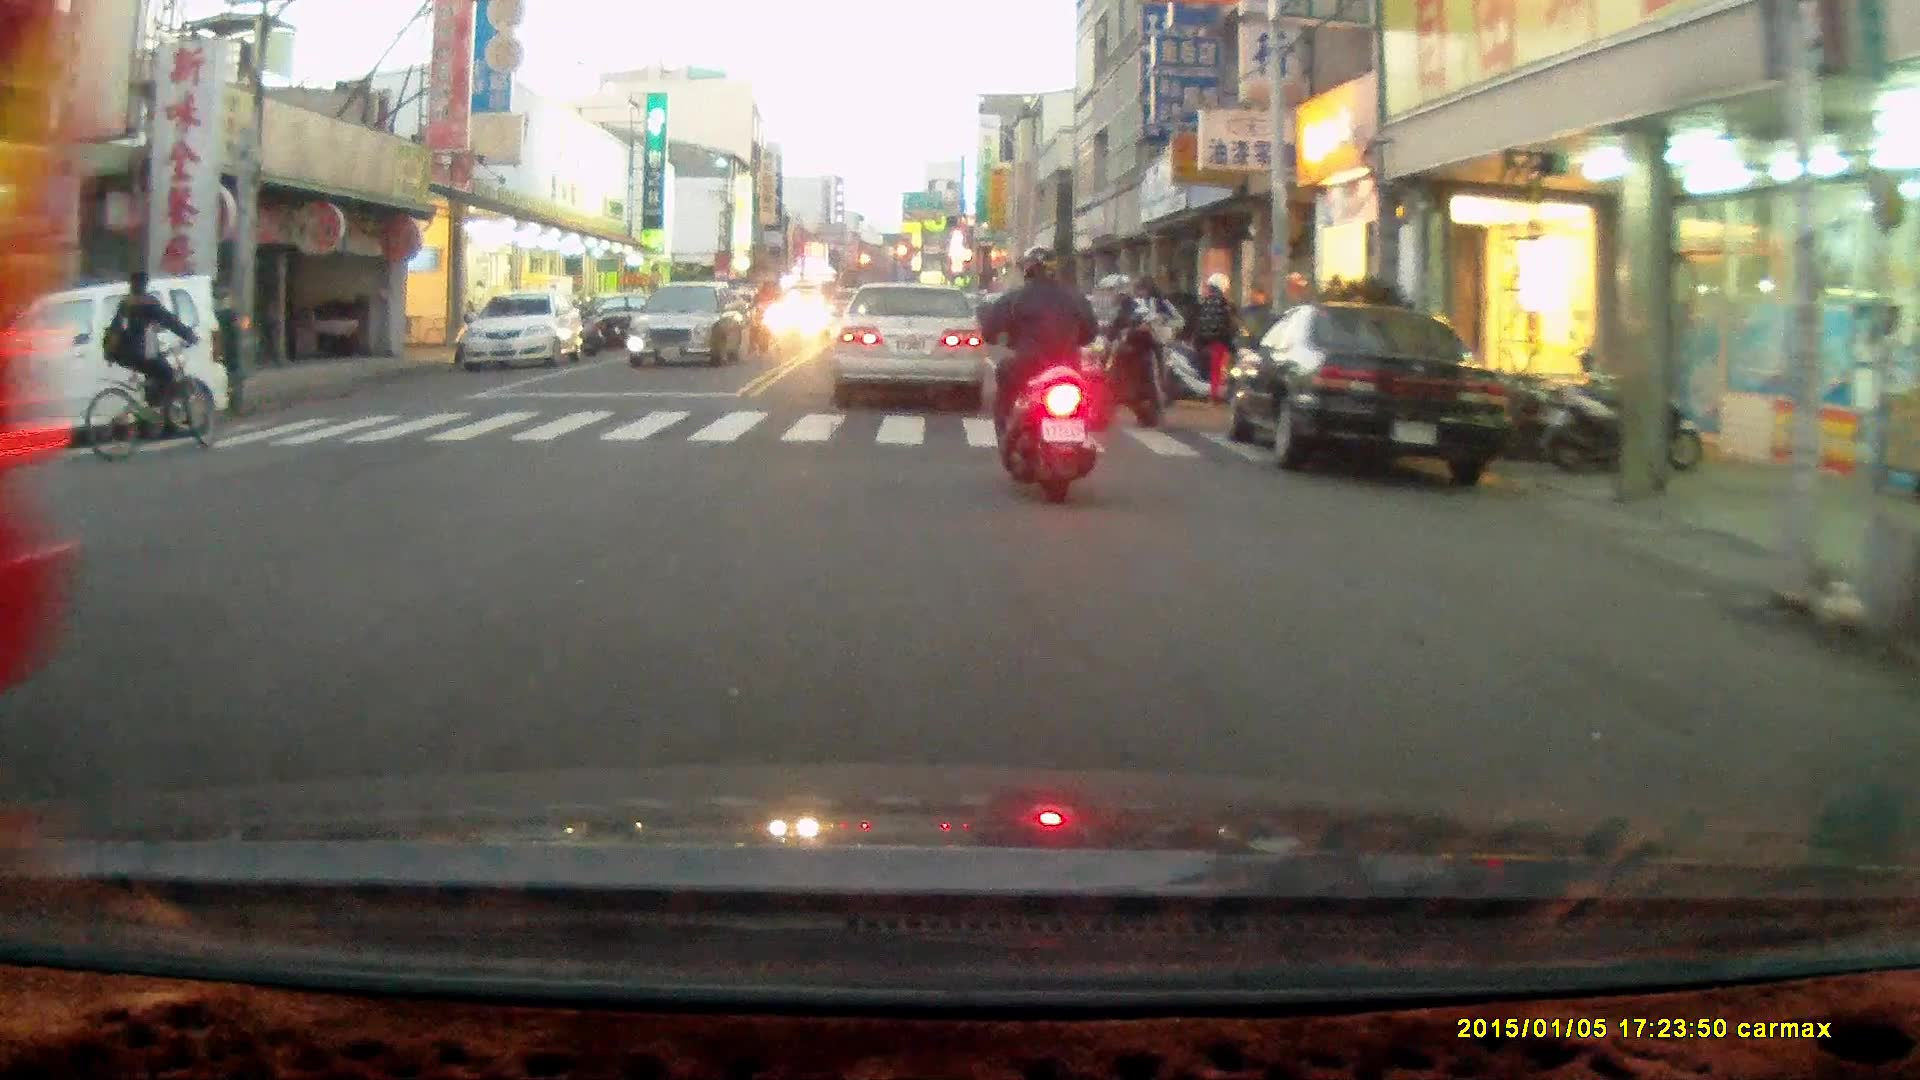pedestrian: (1199, 267, 1241, 410)
rider: (978, 239, 1102, 502), (82, 272, 215, 455), (1072, 266, 1185, 426), (744, 274, 787, 355)
vehicle: (1, 16, 81, 696), (1225, 302, 1518, 480), (1, 282, 230, 452), (842, 280, 1007, 408), (633, 279, 746, 366), (460, 291, 585, 369)
